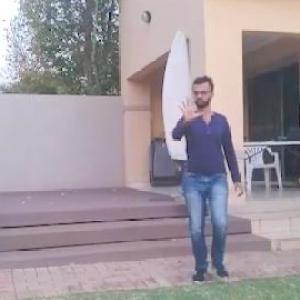follow_hand: (170, 87, 204, 126)
